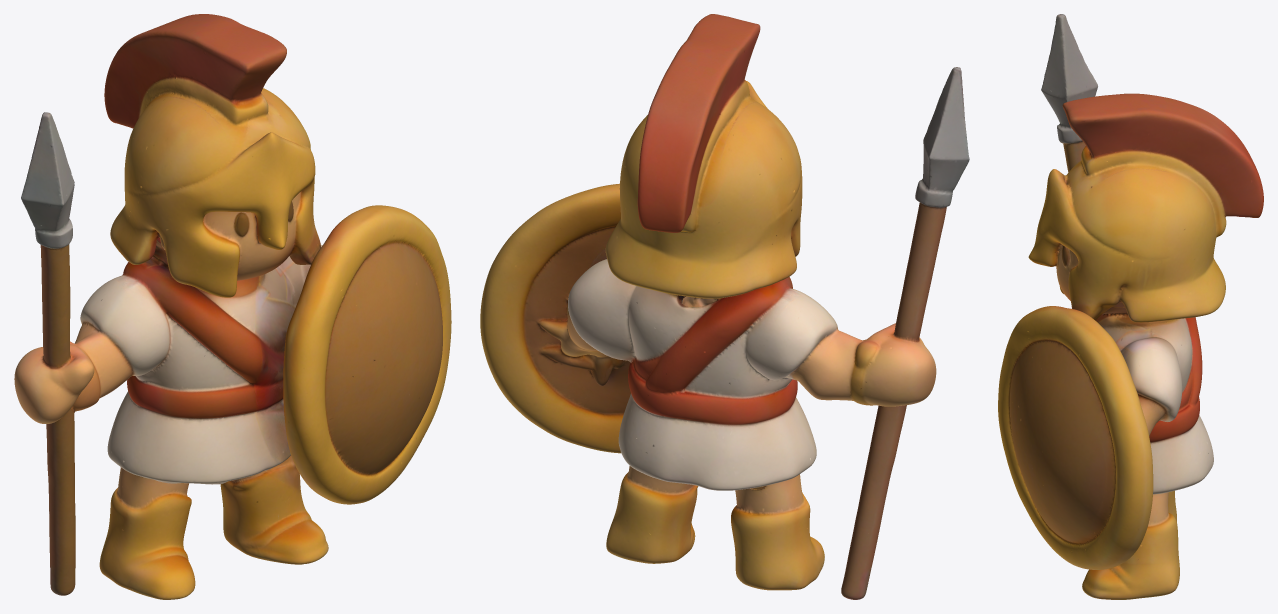
File: soldier4.glb
3 views of the same model, side by side, from view 1: azimuth 30°, elevation 25°; view 2: azimuth 150°, elevation 25°; view 3: azimuth 270°, elevation 25° (orthographic). The views are drawn at different scales.
Bounding box in the file's own units: 1.83 × 2 × 1.05.
1 material, 1 textured.
